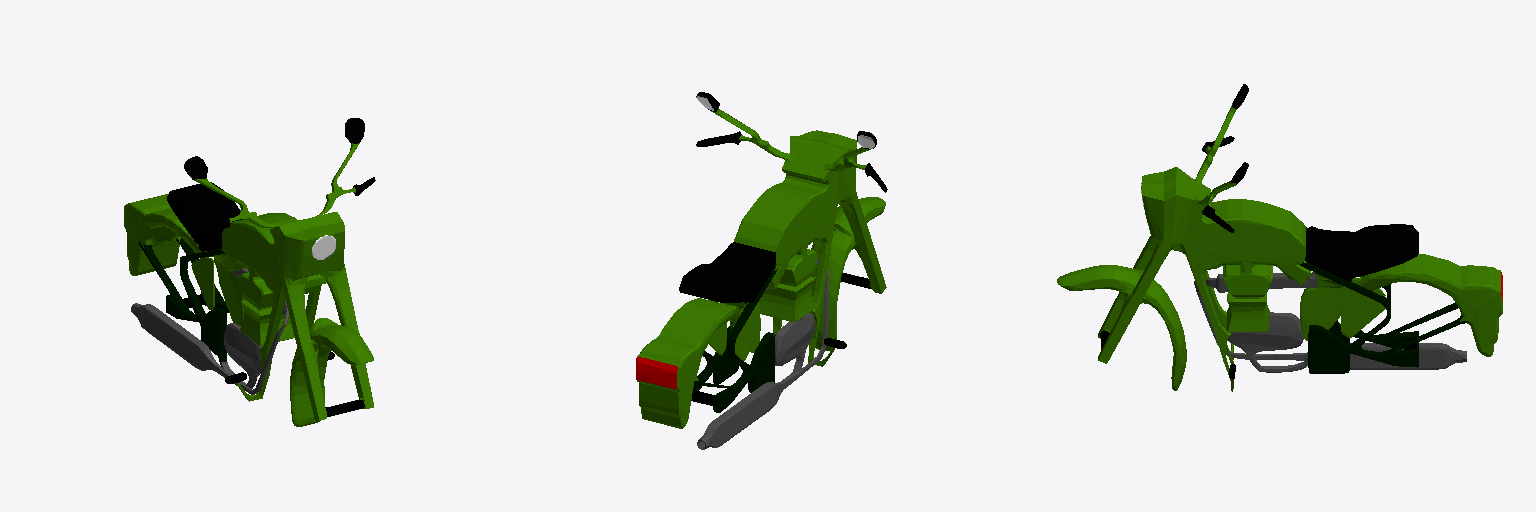
The model's file is moto_frame.obj.
3 renders of one model, left to right at view 1: azimuth 30°, elevation 25°; view 2: azimuth 150°, elevation 25°; view 3: azimuth 270°, elevation 25°, orthographic.
Parts seen in each view (by area): view 1: morotcycle_motorcycle.002; view 2: morotcycle_motorcycle.002; view 3: morotcycle_motorcycle.002.
Boxes of the visible parts, box(x1,y1,x2,y2) form: morotcycle_motorcycle.002: box(124, 118, 375, 426); morotcycle_motorcycle.002: box(636, 92, 887, 449); morotcycle_motorcycle.002: box(1057, 84, 1502, 391).
Bounding box in the file's own units: 4.43 × 5.86 × 9.03.